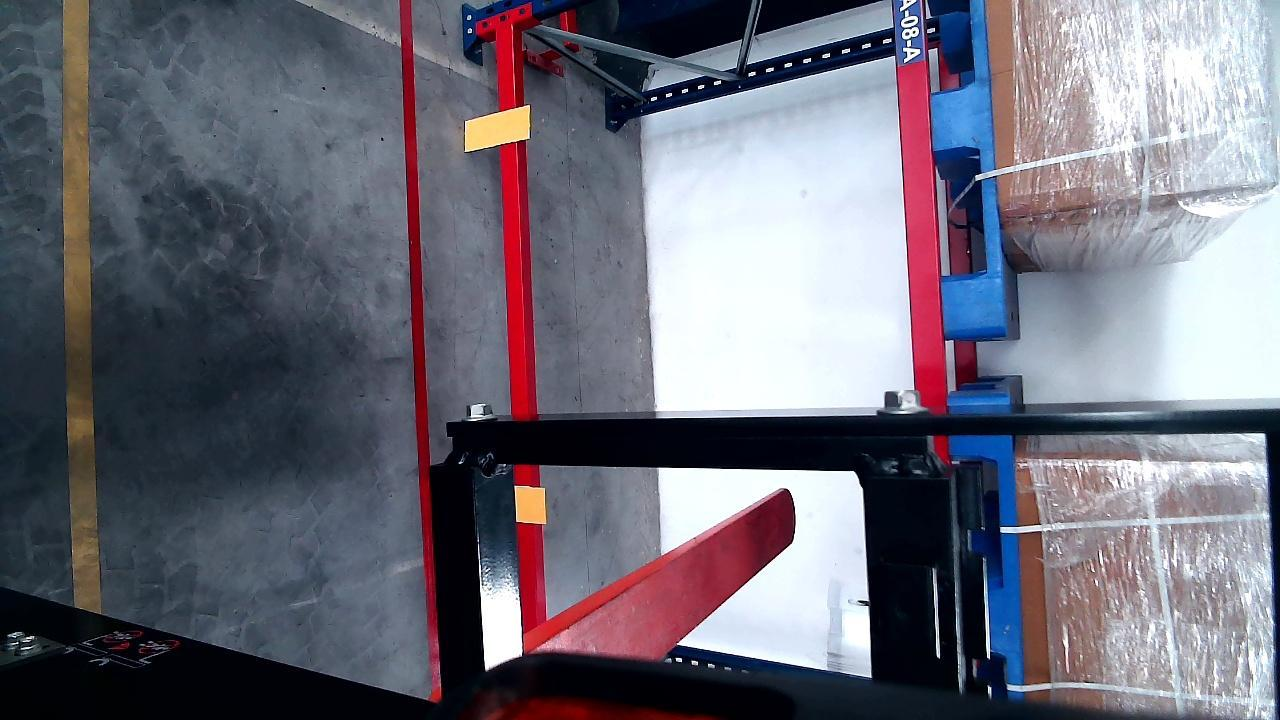red_line: (400, 1, 444, 700)
yellow_line: (60, 0, 100, 611)
